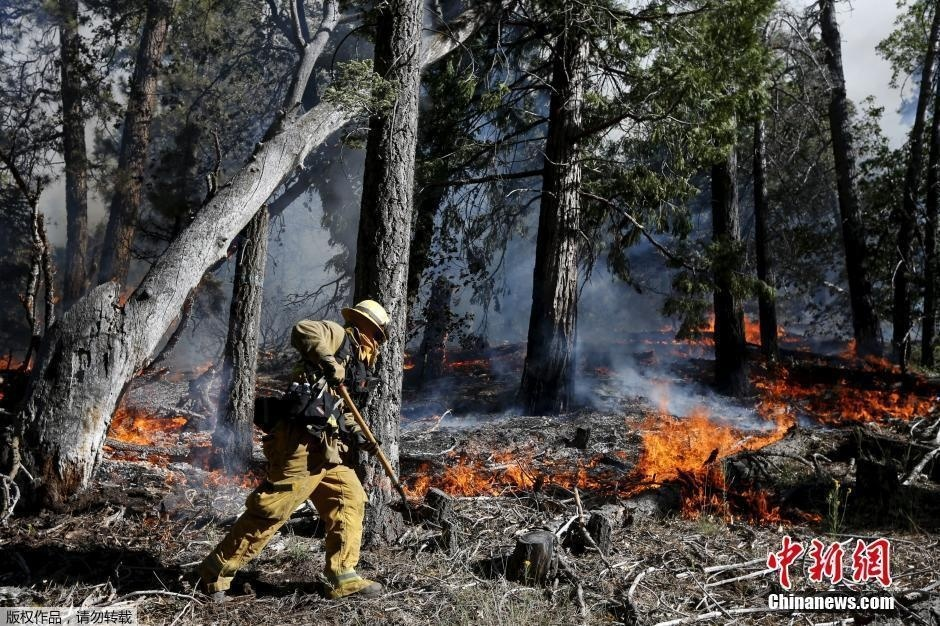fire: (623, 397, 793, 528), (756, 348, 940, 426), (98, 403, 247, 490), (392, 443, 600, 500), (656, 318, 724, 345)
